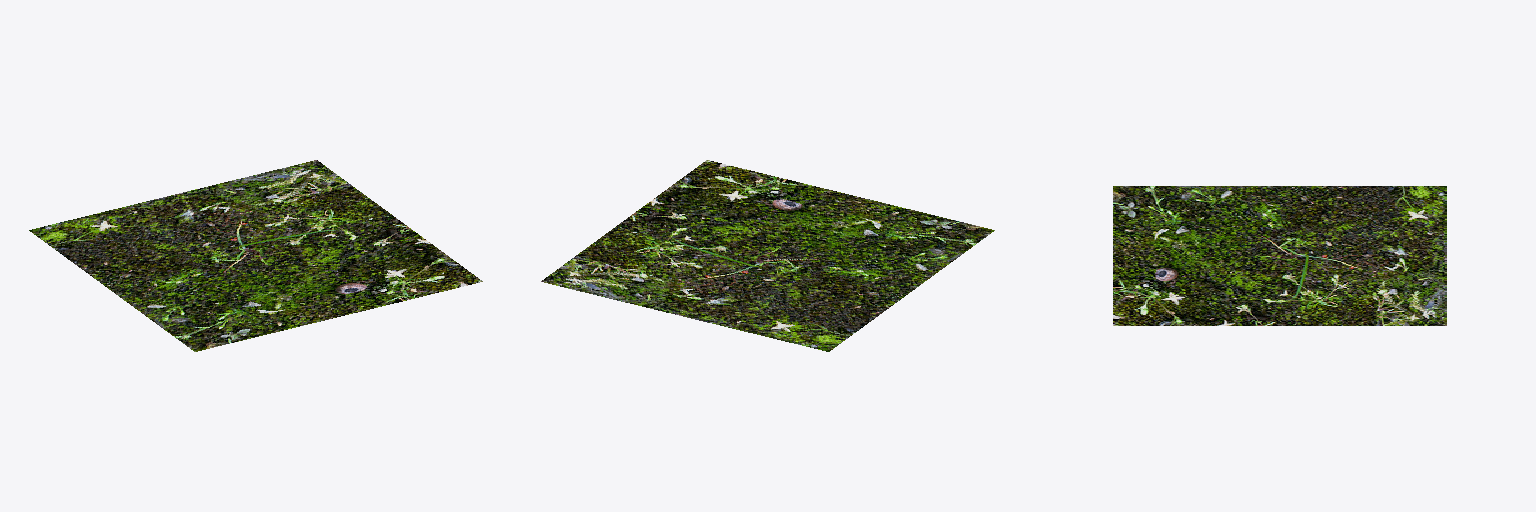
3 views of the same model, side by side, from view 1: azimuth 30°, elevation 25°; view 2: azimuth 150°, elevation 25°; view 3: azimuth 270°, elevation 25° (orthographic).
Parts seen in each view (by area): view 1: floor; view 2: floor; view 3: floor.
Part boxes in pixels (x1,y1,x2,y2): floor: (29,160,482,351); floor: (541,160,994,351); floor: (1113,186,1446,325).
Size of the model in its own units: 1 by 0 by 1.
1 materials, 1 textured.